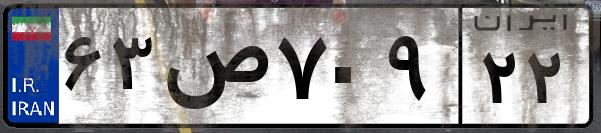0: (330, 28, 385, 110)
2: (475, 38, 525, 113), (525, 38, 570, 115)
3: (110, 28, 158, 98)
6: (57, 26, 110, 100)
7: (270, 28, 330, 110)
9: (385, 28, 445, 110)
ص: (158, 20, 270, 120)
